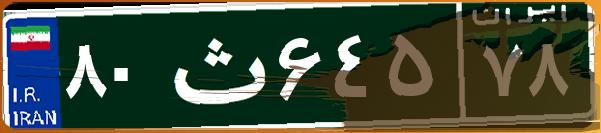0: (110, 28, 158, 105)
4: (330, 28, 385, 110)
5: (385, 28, 445, 110)
6: (273, 28, 330, 110)
7: (475, 38, 525, 113)
8: (57, 26, 110, 107), (525, 38, 570, 115)
ث: (158, 15, 273, 115)
